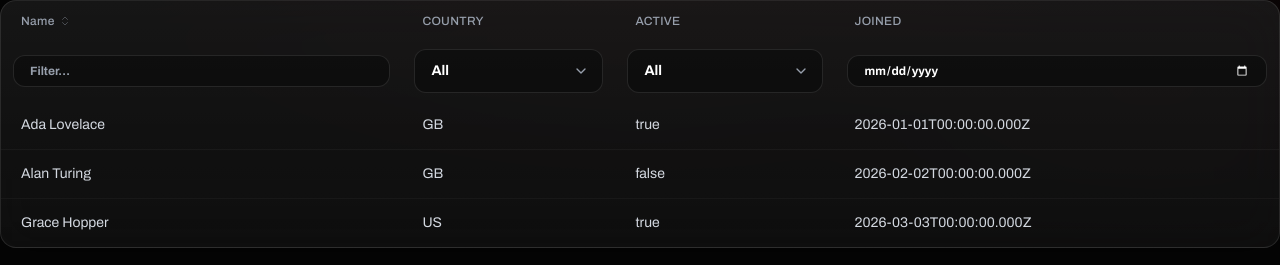
Test: DataTable › select filter matches exact value and auto-derives options
The width and height of the screenshot is (1280, 265).
Select "US" in the dropdown named "Filter Country" at [509, 71], box [414, 49, 603, 93]
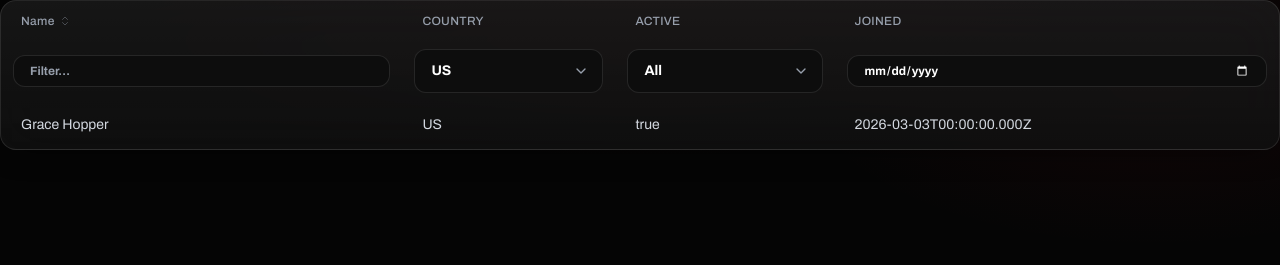
Expected: the text "Grace Hopper" is shown, [1, 101, 402, 149]
Expected: the text "Ada Lovelace" is gone
